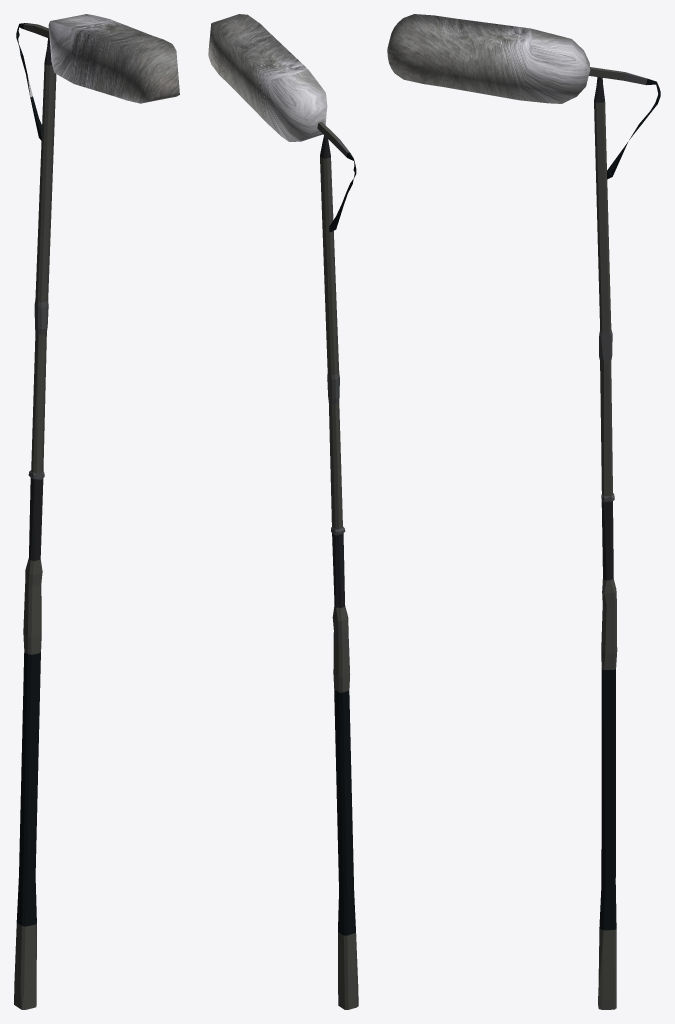
The model's file is AuthenticBoomMic.fbx.
3 renders of one model, left to right at view 1: azimuth 30°, elevation 25°; view 2: azimuth 210°, elevation 25°; view 3: azimuth 270°, elevation 25°, orthographic. The views are drawn at different scales.
Parts seen in each view (by area): view 1: Boom Mic; view 2: Boom Mic; view 3: Boom Mic.
Boxes of the visible parts, bbox=[...] form: Boom Mic: bbox=[14, 14, 179, 1009]; Boom Mic: bbox=[208, 14, 358, 1009]; Boom Mic: bbox=[387, 14, 660, 1009].
Bounding box in the file's own units: 0.0449 × 0.7613 × 0.1891.
